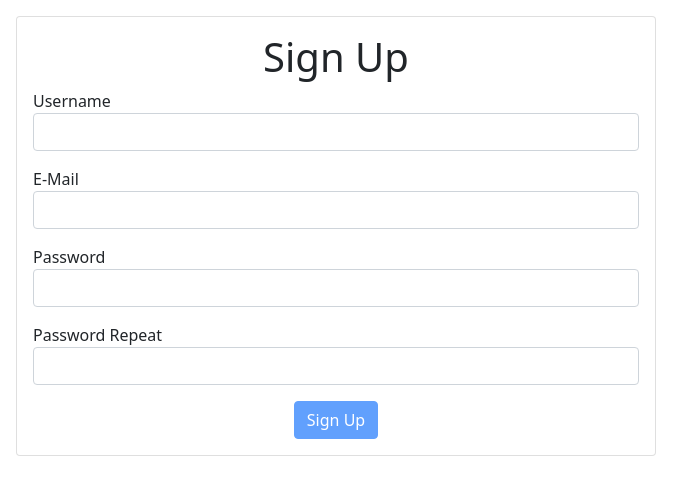
it: interaction › displays Username can not be null for username
Type "user1" into the field labelled "Username" at (336, 132), box left=33, top=113, right=639, bottom=151
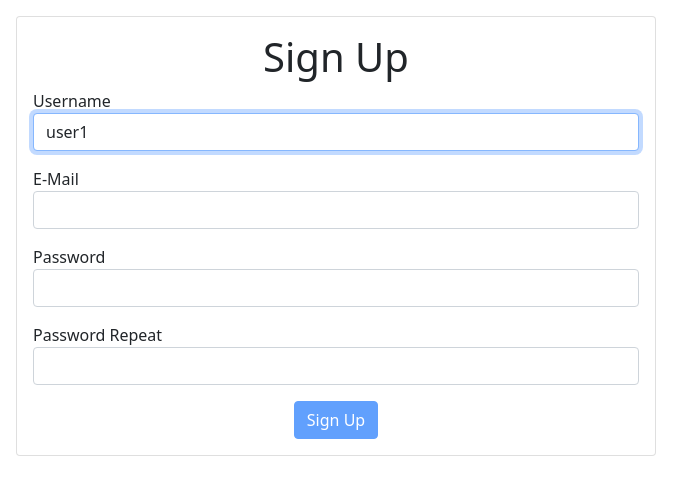
Type "user1@mail.com" into the field labelled "E-Mail" at (336, 210), box left=33, top=191, right=639, bottom=229
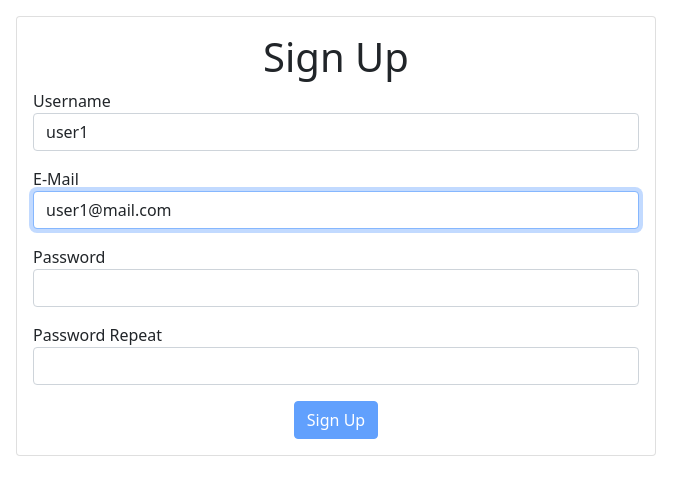
Type "P4ssword" into the password field labelled "Password" at (336, 288), box left=33, top=269, right=639, bottom=307
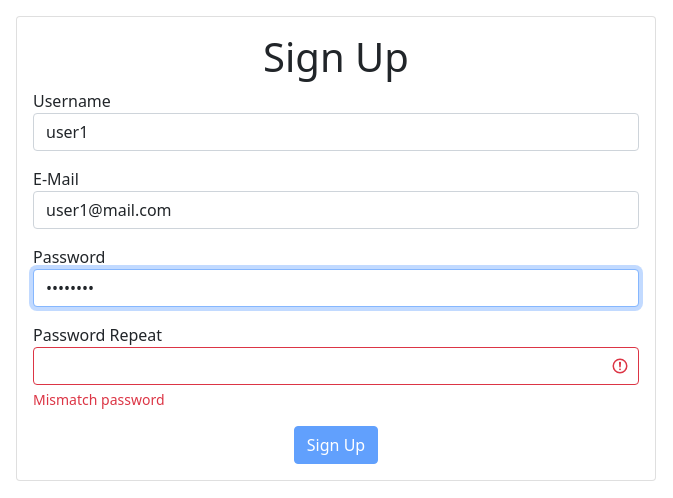
Type "P4ssword" into the password field labelled "Password Repeat" at (336, 366), box left=33, top=347, right=639, bottom=385
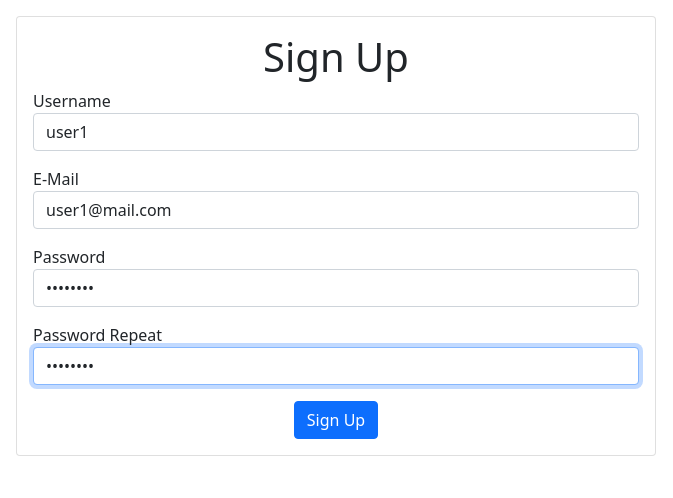
Click the button "Sign Up" at (336, 420), box left=294, top=401, right=378, bottom=439
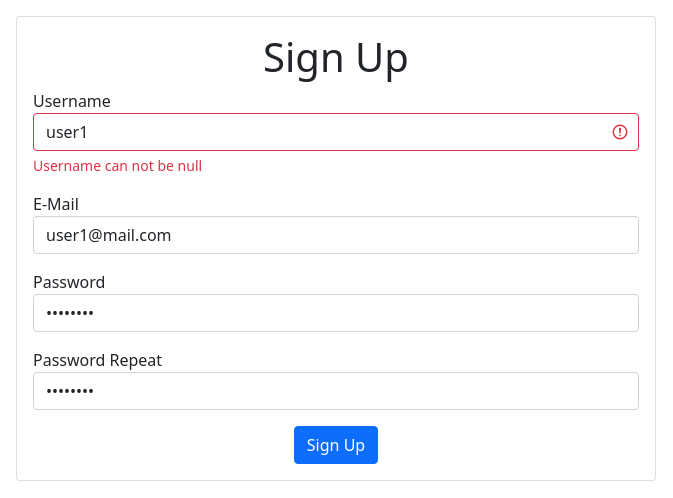
Now the text "Username can not be null" is shown, box left=33, top=156, right=202, bottom=175
